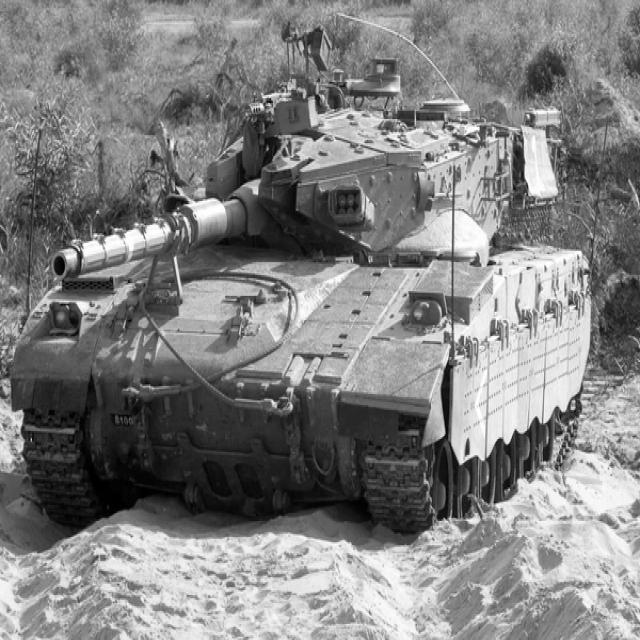Tank: (9, 66, 605, 540)
